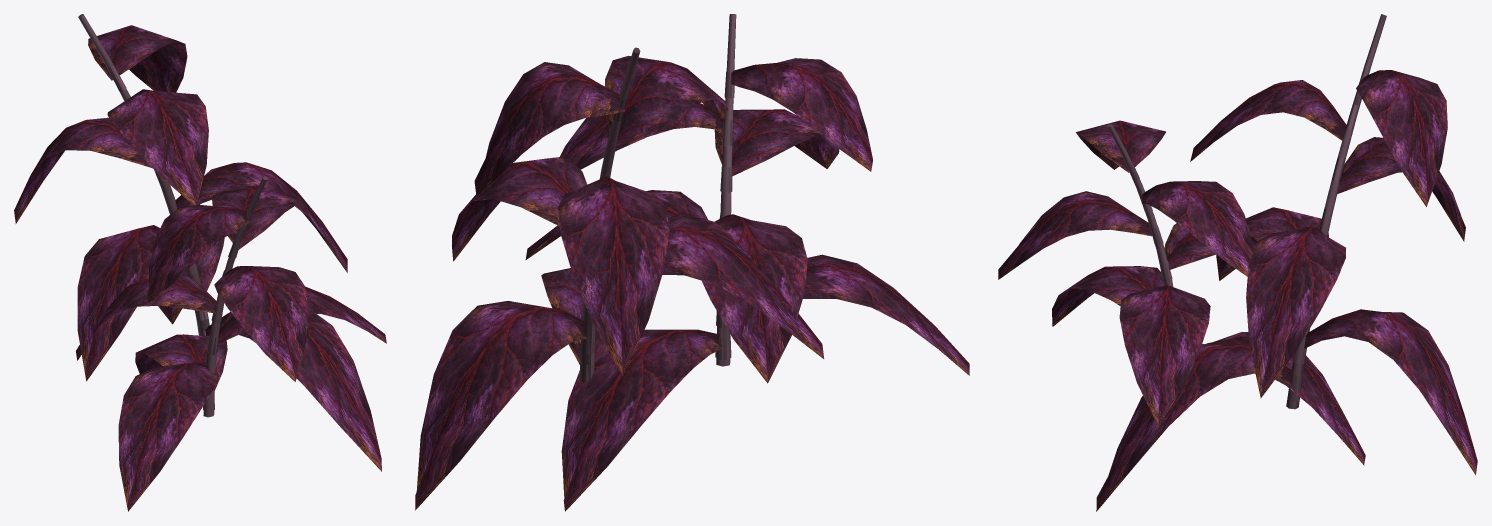
Rendered from broadgrass_03.glb.
3 views of the same model, side by side, from view 1: azimuth 30°, elevation 25°; view 2: azimuth 150°, elevation 25°; view 3: azimuth 270°, elevation 25° (orthographic). The views are drawn at different scales.
Visible parts, largest first — view 1: export; view 2: export; view 3: export.
Boxes of the visible parts, x1,y1,x2,y2 form: export: [14, 14, 386, 511]; export: [415, 14, 969, 511]; export: [998, 14, 1477, 511].
Size of the model in its own units: 0.6639 by 0.7924 by 0.8246.
Materials: 2 (2 with a texture image).
